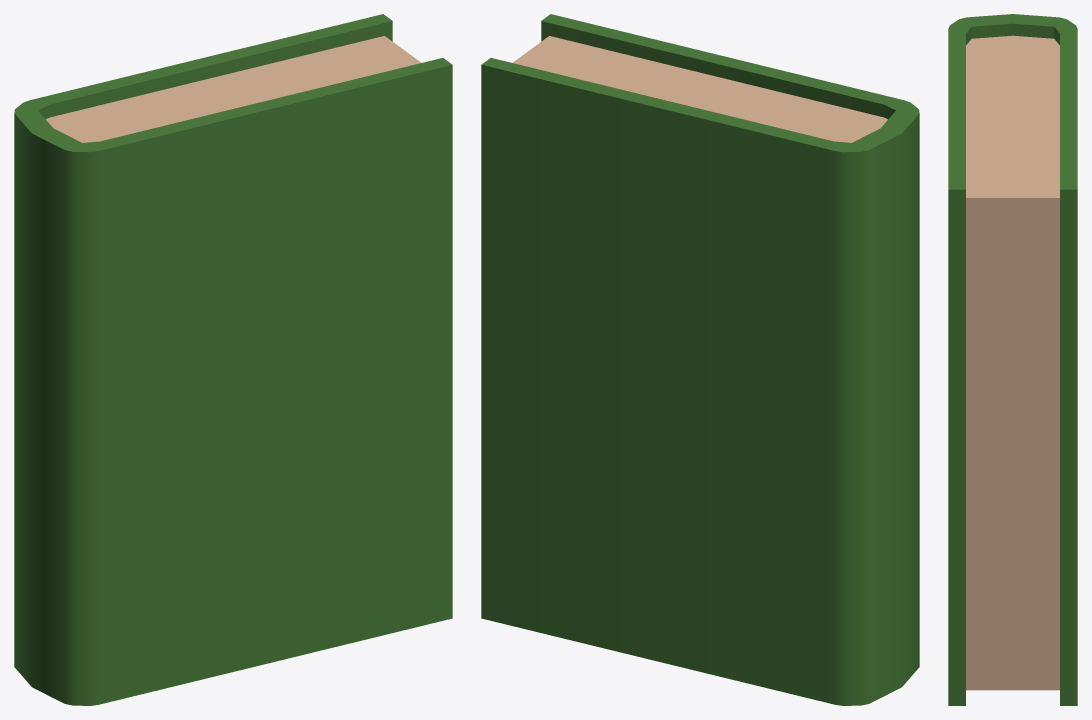
File: Book_02.fbx
3 renders of one model, left to right at view 1: azimuth 30°, elevation 25°; view 2: azimuth 150°, elevation 25°; view 3: azimuth 270°, elevation 25°, orthographic. The views are drawn at different scales.
Parts seen in each view (by area): view 1: Book_02; view 2: Book_02; view 3: Book_02.
Boxes of the visible parts, x1=… form: Book_02: x1=14, y1=14, x2=452, y2=705; Book_02: x1=481, y1=14, x2=919, y2=705; Book_02: x1=948, y1=14, x2=1077, y2=705.
Size of the model in its own units: 23.58 by 32.33 by 7.33.
